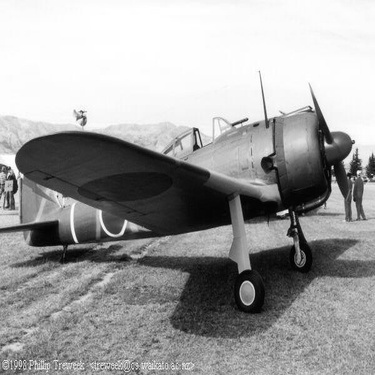airplane: (1, 55, 363, 330)
